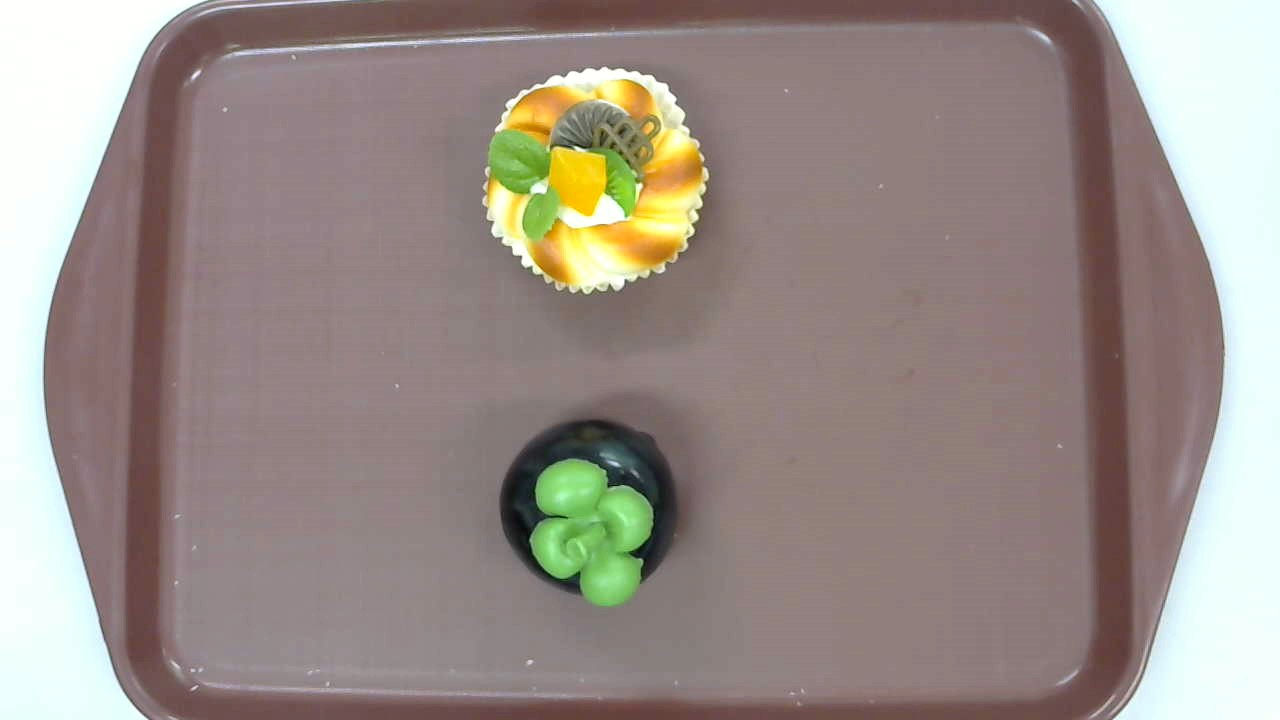fruit tart: (483, 67, 710, 295)
mangosteen: (497, 419, 679, 607)
